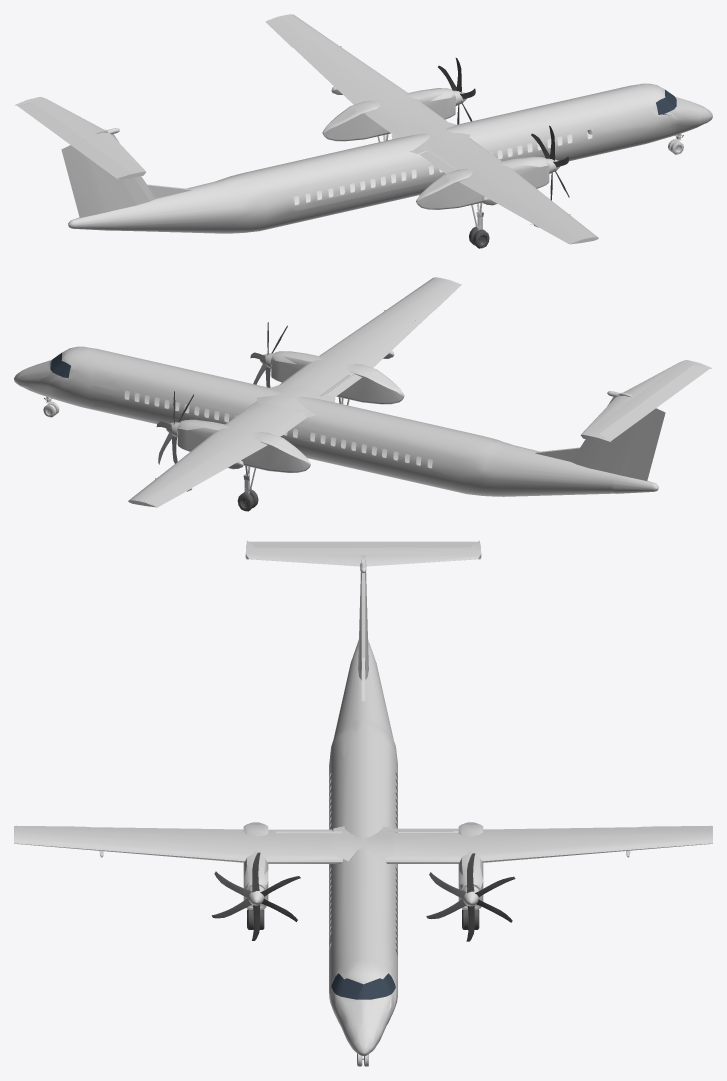
The picture shows the model from 3 angles, top to bottom: view 1: azimuth 30°, elevation 25°; view 2: azimuth 150°, elevation 25°; view 3: azimuth 270°, elevation 25°; orthographic projection. The views are drawn at different scales.
Parts seen in each view (by area): view 1: body, spin (×2); view 2: body, spin (×2); view 3: body, spin (×2), glass.
Boxes of the visible parts, left/top/right/bottom form: body: left=14, top=14, right=712, bottom=244; spin (×2): left=438, top=58, right=569, bottom=200; body: left=14, top=277, right=711, bottom=507; spin (×2): left=156, top=322, right=287, bottom=464; body: left=14, top=540, right=712, bottom=1066; spin (×2): left=211, top=852, right=515, bottom=941; glass: left=331, top=973, right=395, bottom=999.
Bounding box in the file's own units: 2.2 × 0.5228 × 1.78.
